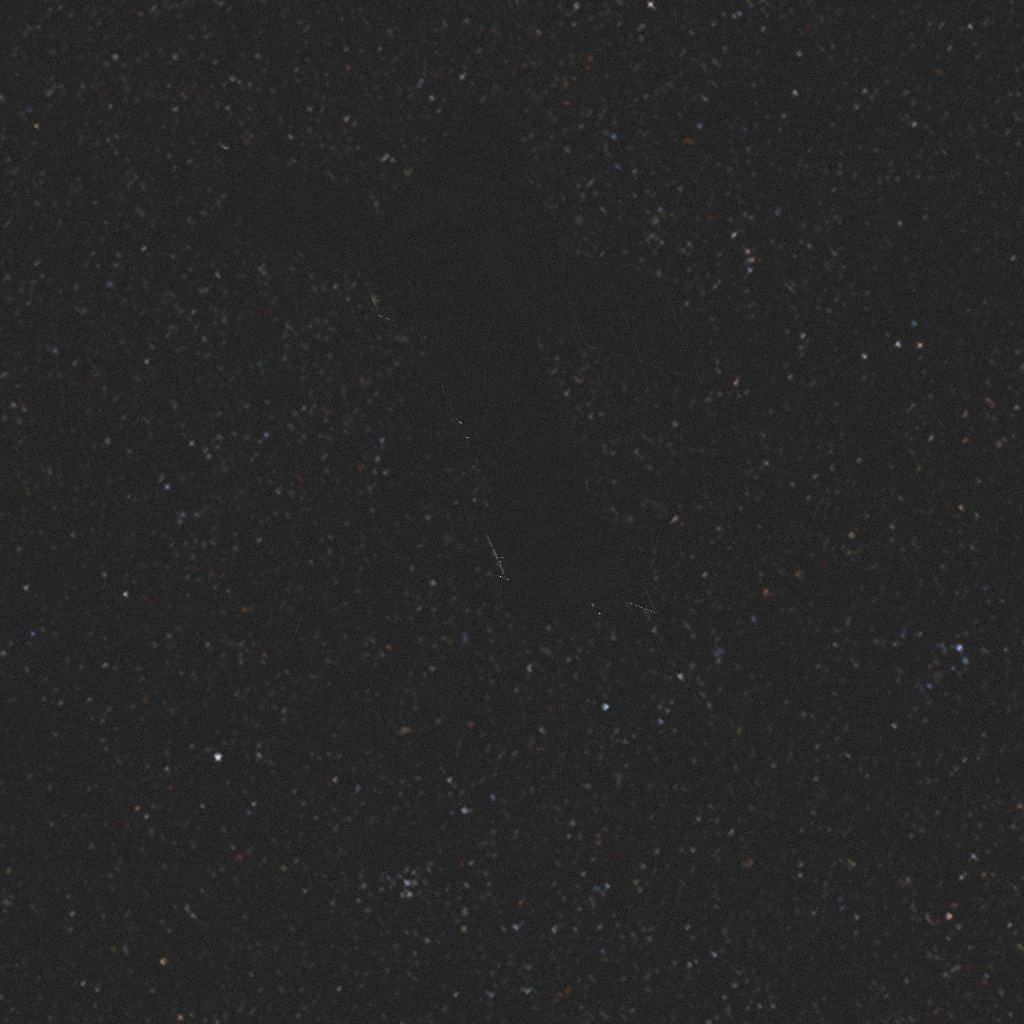xmm_newton: (218, 105, 702, 623)
